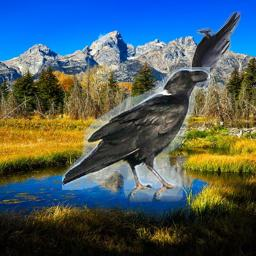Crow: (62, 67, 210, 202), (187, 11, 241, 89)
